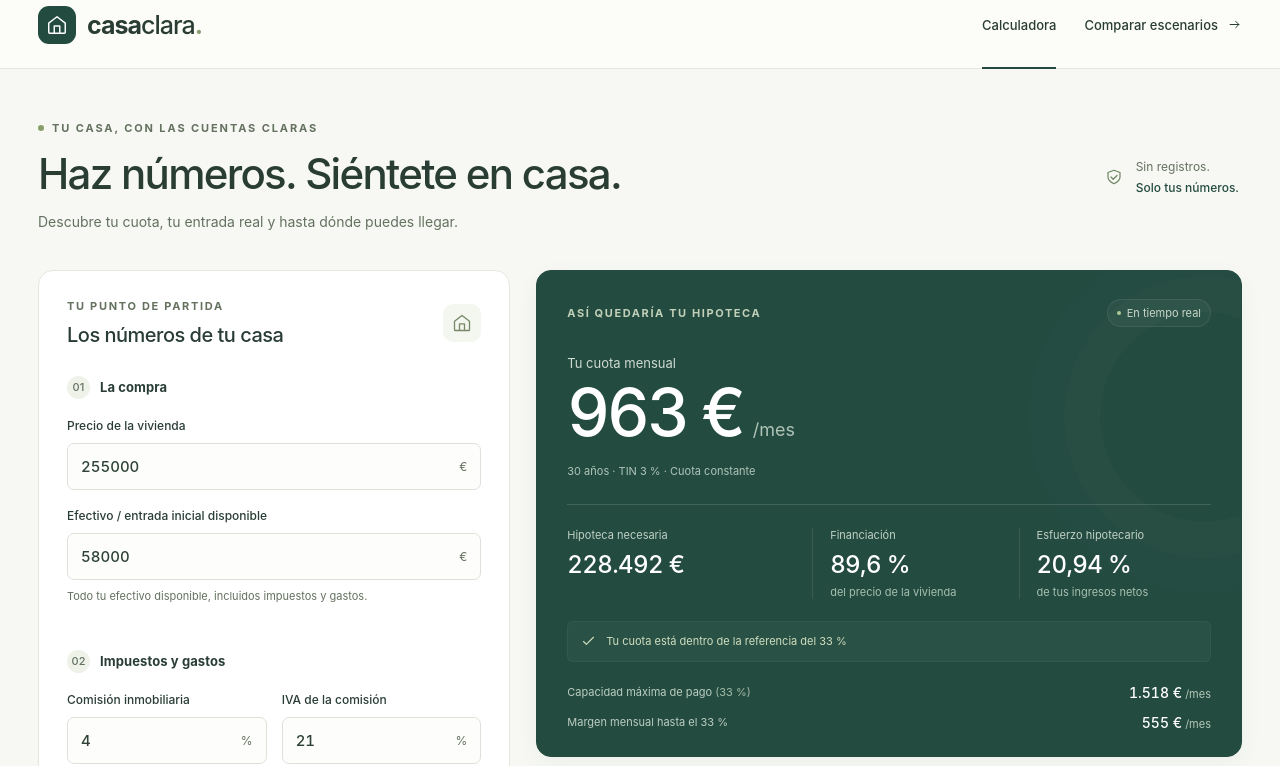
Test: calculadora interactiva › retira resultados inválidos y permite restablecer los valores
Clear the field labelled "Precio de la vivienda" at (274, 466), box [67,443,481,490]
(page scrolled)
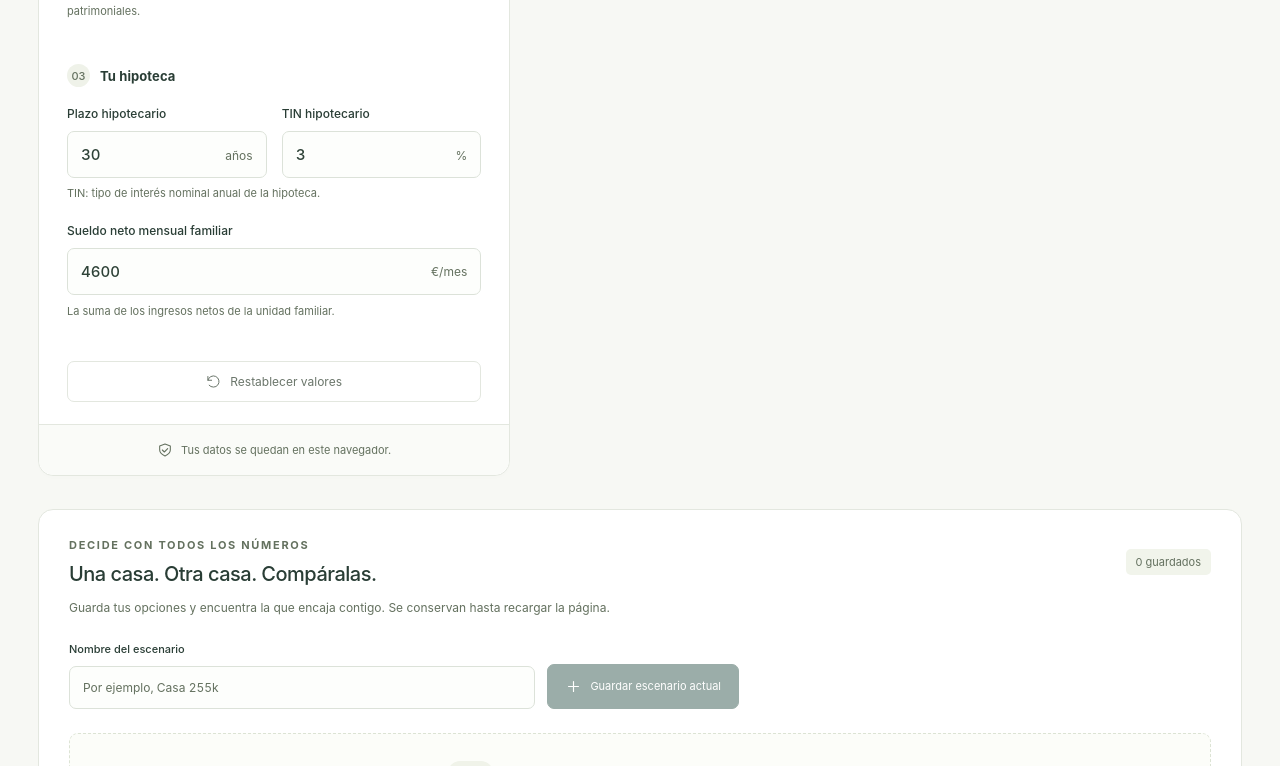
Now the text with test id "monthly-payment" is gone
Now the button "Guardar escenario actual" is disabled, box [547,664,739,709]
Click the button "Restablecer valores" at (274, 381), box [67,361,481,402]
(page scrolled)
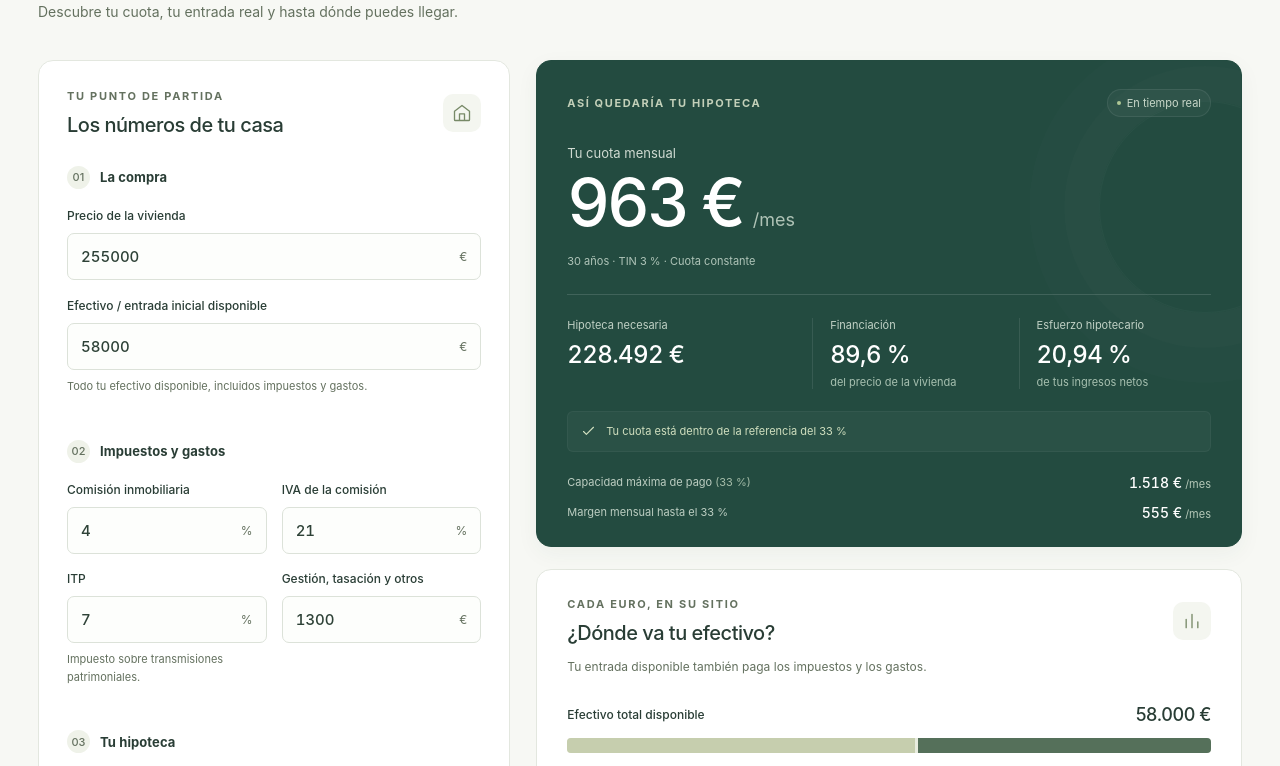
Now the text with test id "monthly-payment" shows "963", box [567,162,743,242]
Now the field labelled "Precio de la vivienda" holds "255000", box [67,233,481,280]
